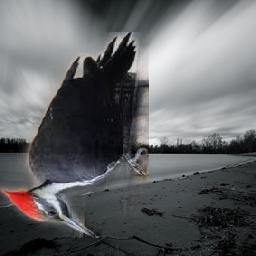Woodpecker: (1, 32, 150, 238)
